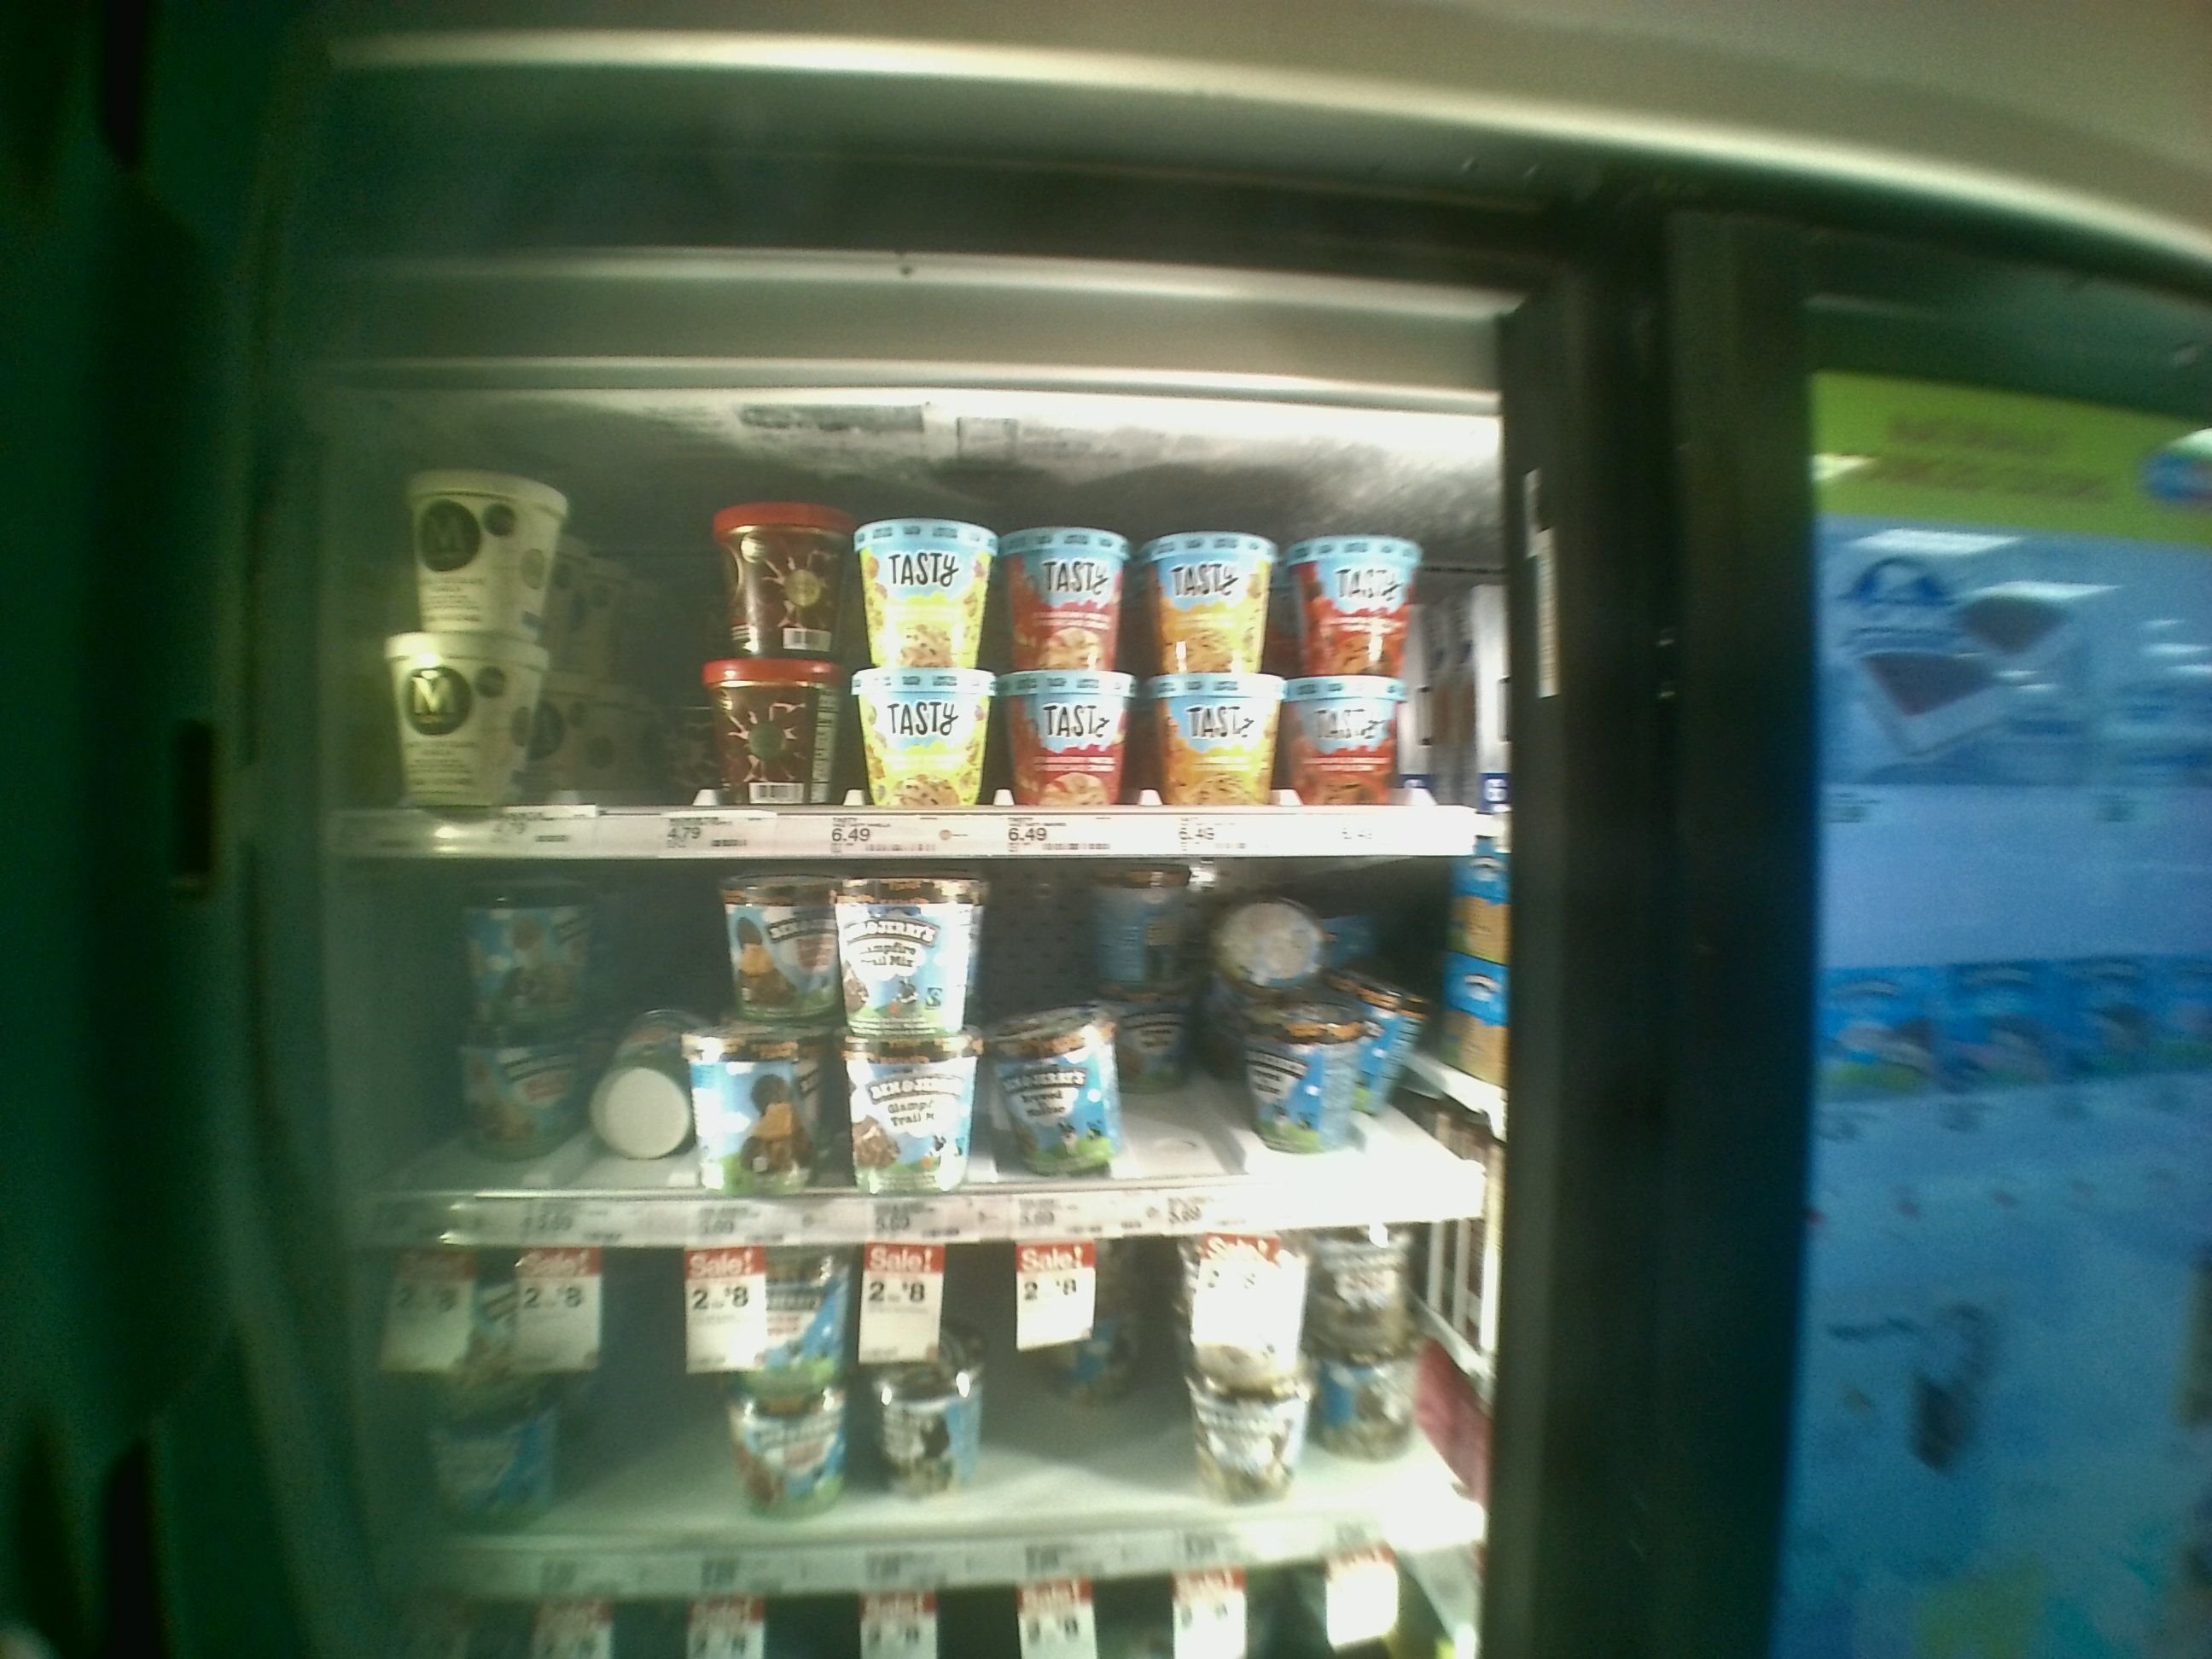shelf: (334, 364, 1505, 857), (331, 859, 1496, 1234), (331, 1244, 1479, 1598)
